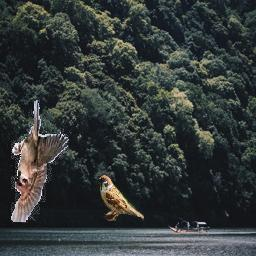Sparrow: (11, 97, 69, 223), (96, 175, 144, 222)
